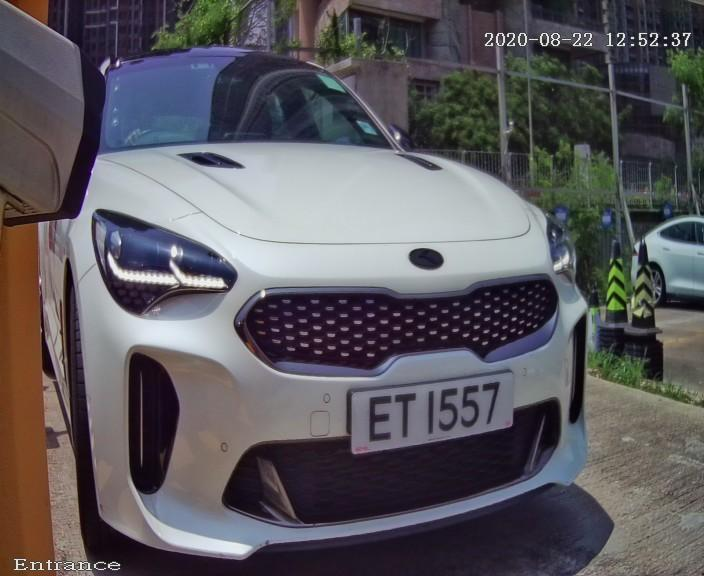License Plate: (340, 366, 519, 463)
